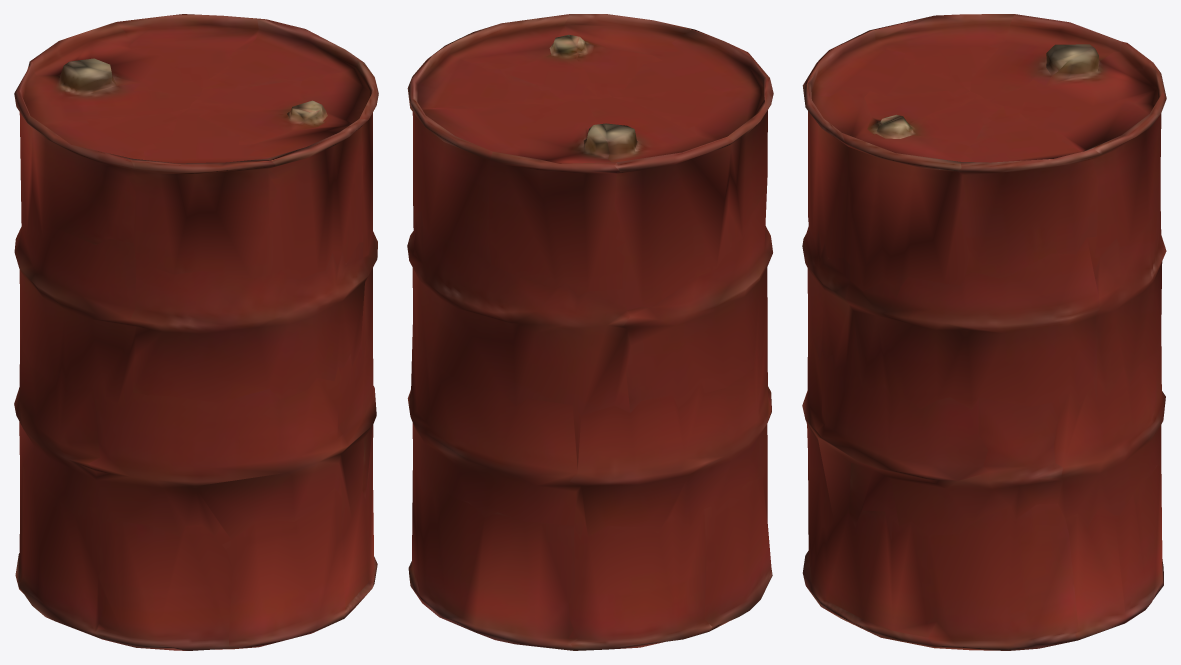
The model's file is barrel.lod2.glb.
3 views of the same model, side by side, from view 1: azimuth 30°, elevation 25°; view 2: azimuth 150°, elevation 25°; view 3: azimuth 270°, elevation 25° (orthographic).
Parts seen in each view (by area): view 1: tripo_node_22df79fb-1a74-4e39-82aa-20d682700ef2; view 2: tripo_node_22df79fb-1a74-4e39-82aa-20d682700ef2; view 3: tripo_node_22df79fb-1a74-4e39-82aa-20d682700ef2.
Boxes of the visible parts, box(x1,y1,x2,y2) form: tripo_node_22df79fb-1a74-4e39-82aa-20d682700ef2: box(14, 14, 378, 650); tripo_node_22df79fb-1a74-4e39-82aa-20d682700ef2: box(407, 14, 773, 650); tripo_node_22df79fb-1a74-4e39-82aa-20d682700ef2: box(802, 14, 1166, 650).
Size of the model in its own units: 0.5895 by 0.8783 by 0.5878.
Materials: 1 (1 with a texture image).
